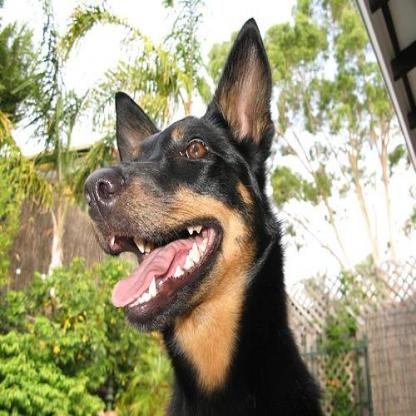kelpie: (83, 14, 323, 414)
